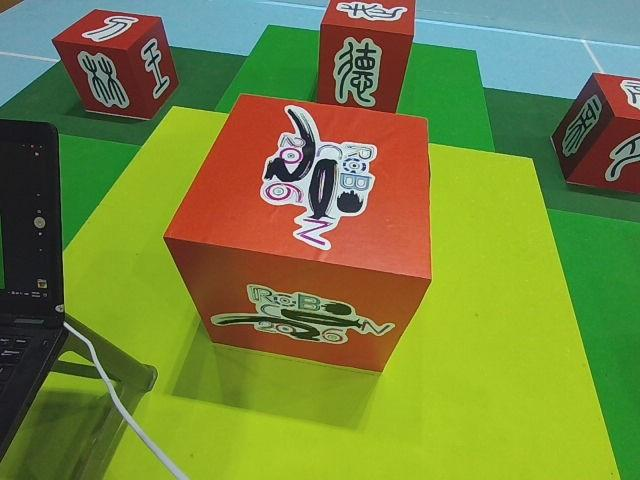R1: (163, 91, 433, 377)
R2 Fake: (52, 9, 179, 121), (551, 73, 639, 201), (317, 0, 414, 116)
